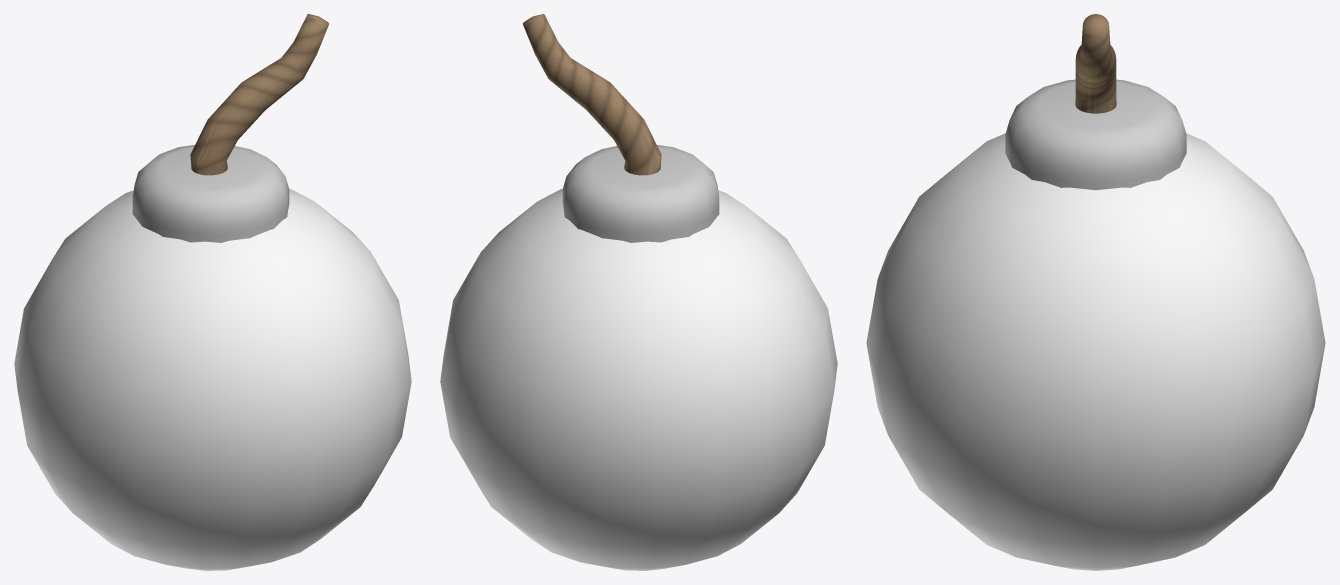
The model's file is Bomb 15.fbx.
3 renders of one model, left to right at view 1: azimuth 30°, elevation 25°; view 2: azimuth 150°, elevation 25°; view 3: azimuth 270°, elevation 25°, orthographic. The views are drawn at different scales.
Parts seen in each view (by area): view 1: Sphere, Cylinder_7, Sphere_7; view 2: Sphere, Cylinder_7, Sphere_7; view 3: Sphere, Cylinder_7, Sphere_7.
Part boxes in pixels (left/top/right/bottom): Sphere: left=14, top=189, right=411, bottom=570; Cylinder_7: left=132, top=145, right=289, bottom=242; Sphere_7: left=190, top=14, right=328, bottom=175; Sphere: left=440, top=189, right=837, bottom=570; Cylinder_7: left=562, top=145, right=719, bottom=242; Sphere_7: left=523, top=14, right=661, bottom=175; Sphere: left=866, top=133, right=1325, bottom=570; Cylinder_7: left=1005, top=79, right=1186, bottom=190; Sphere_7: left=1075, top=14, right=1116, bottom=113.
Size of the model in its own units: 160 by 227 by 160.
